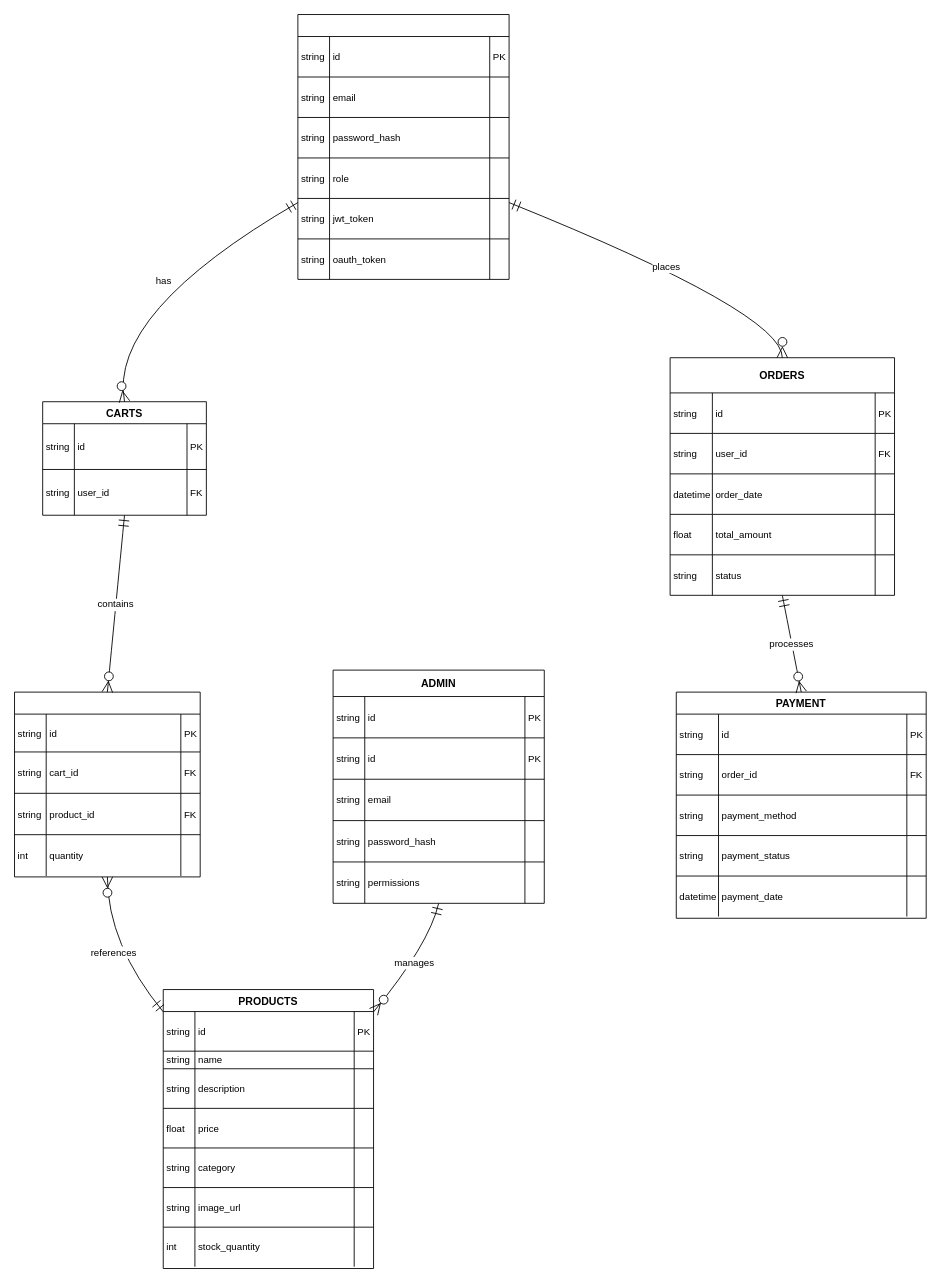
Image size: 941x1283. Some labels were removed from this diagram. Here are the shapes that lost their labels. From the top down, the box of each, then its label:
(297, 14, 509, 279): USERS
(14, 691, 200, 877): CART_ITEMS
